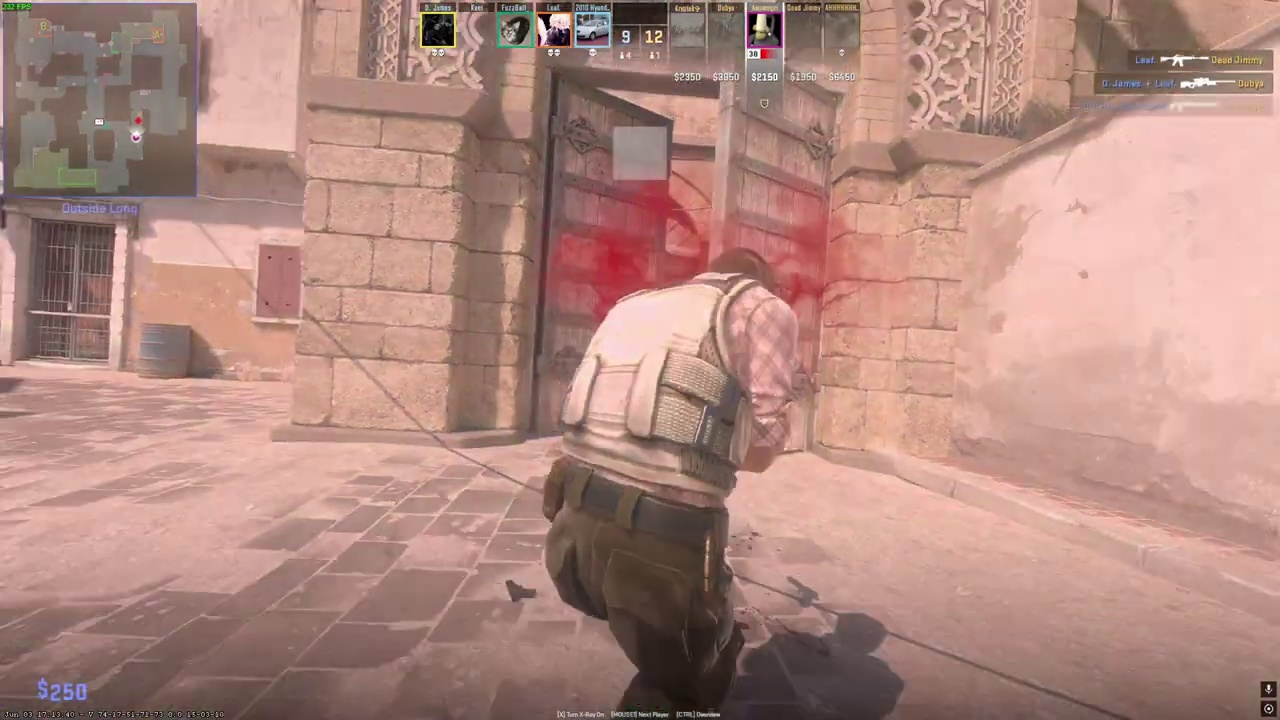Terrorist: (542, 247, 801, 720)
